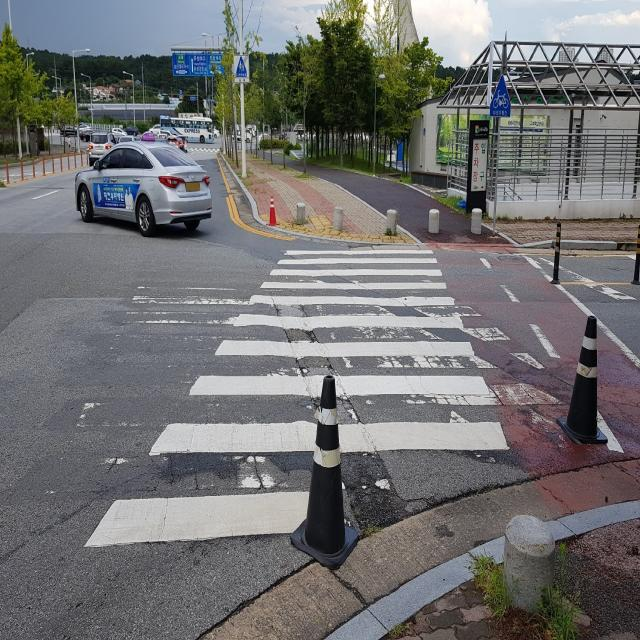횡단보도: (80, 244, 514, 552)
